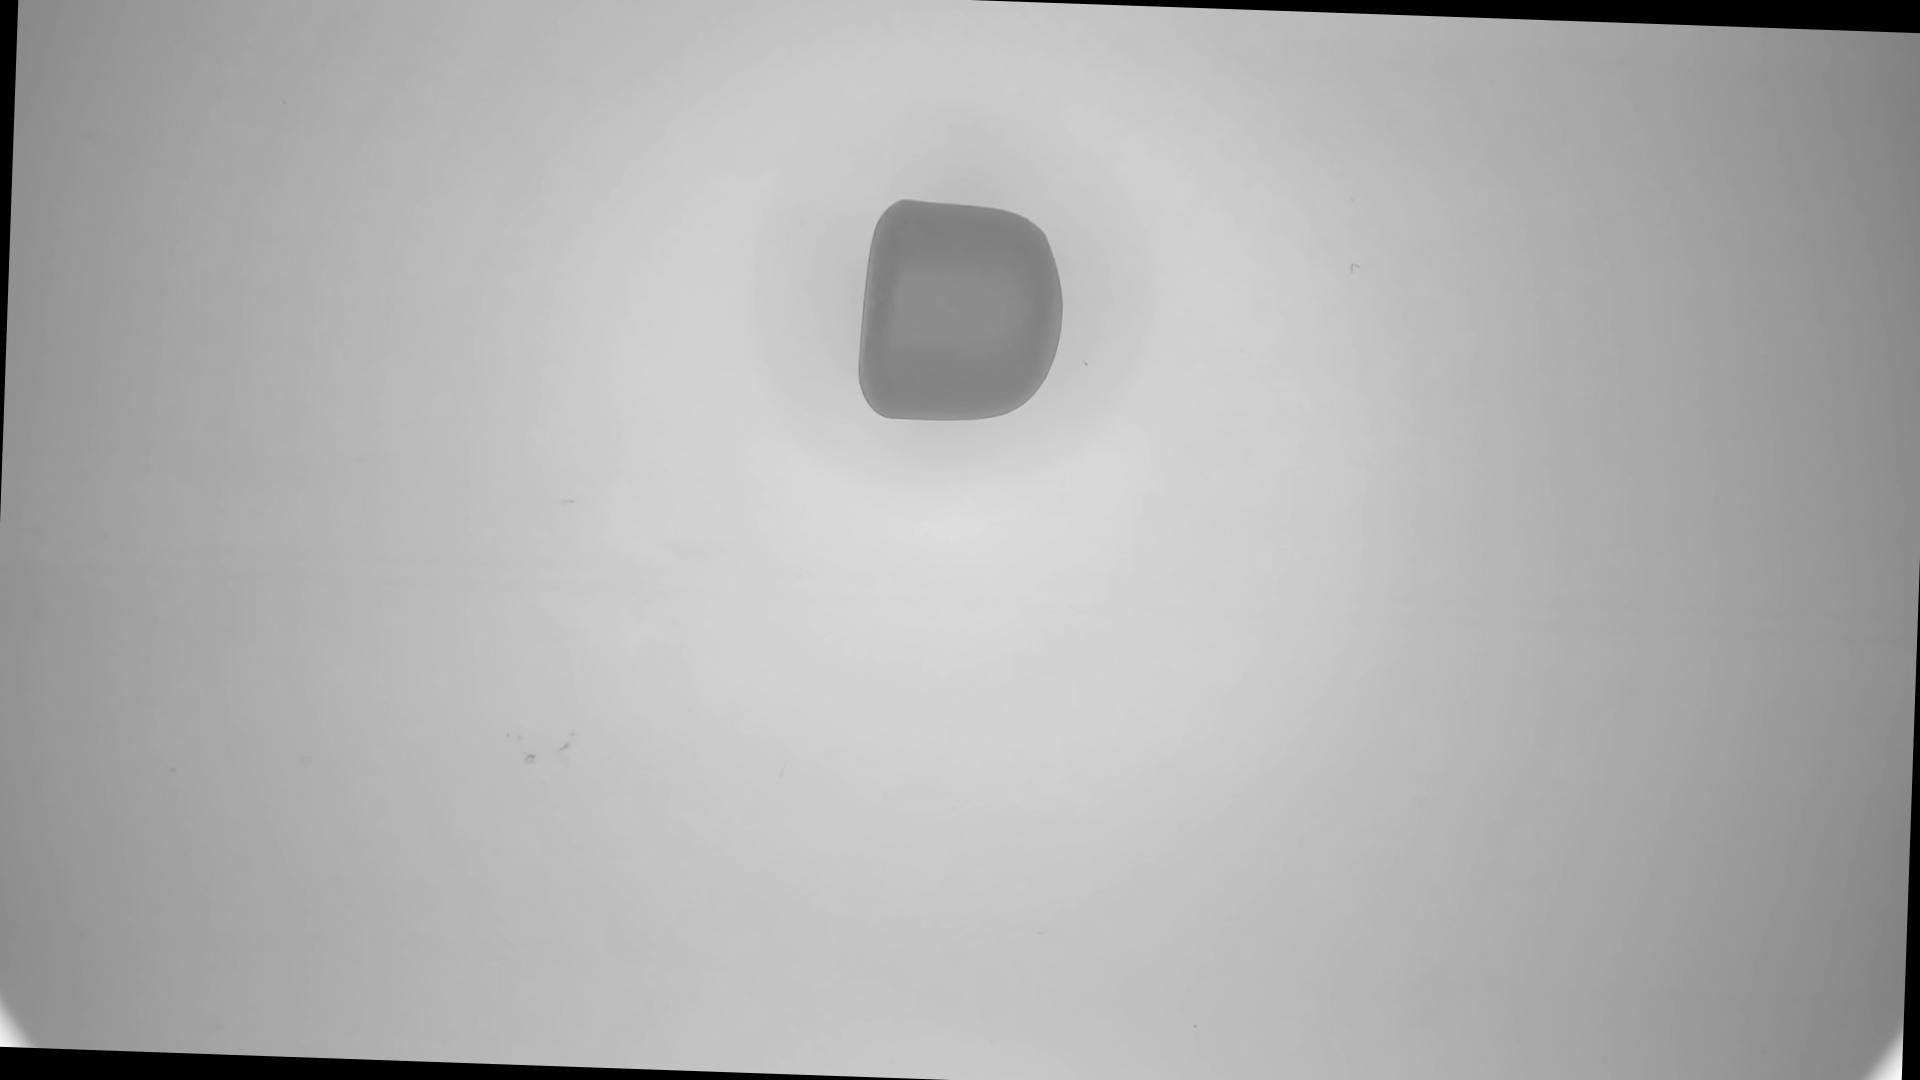normal: (858, 196, 1069, 429)
